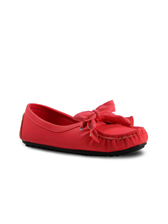shoes: (15, 99, 154, 158)
